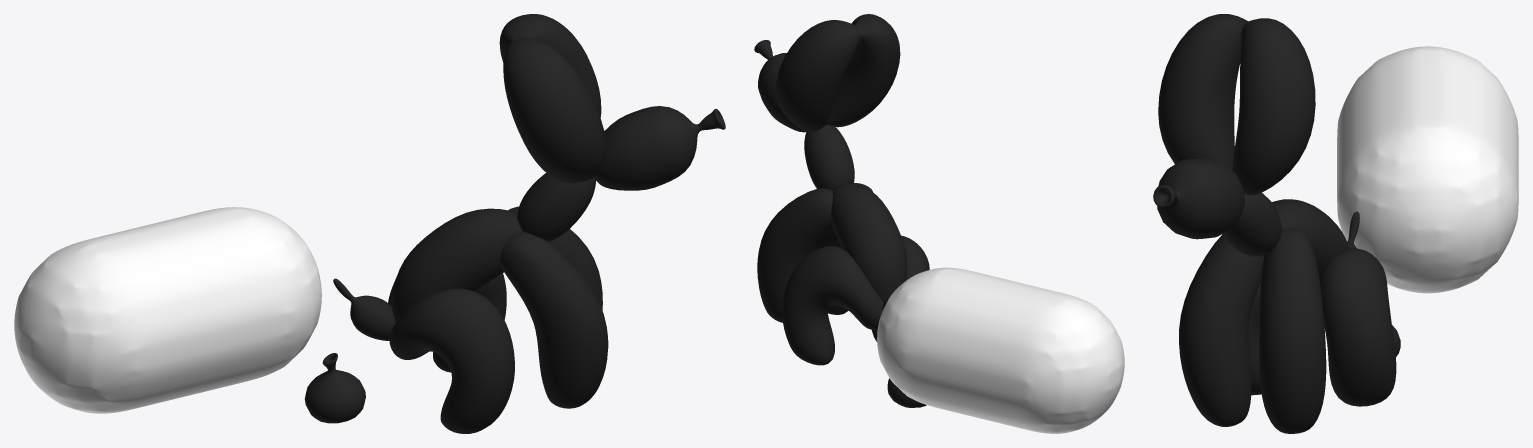
Rendered from blln2.glb.
3 renders of one model, left to right at view 1: azimuth 30°, elevation 25°; view 2: azimuth 150°, elevation 25°; view 3: azimuth 270°, elevation 25°, orthographic. The views are drawn at different scales.
Parts seen in each view (by area): view 1: Body, Mball.003; view 2: Body, Mball.003; view 3: Body, Mball.003.
Part boxes in pixels (x1,y1,x2,y2): Body: (304,14,725,433); Mball.003: (14,207,321,413); Body: (754,14,929,407); Mball.003: (877,267,1124,433); Body: (1153,14,1400,433); Mball.003: (1337,46,1518,293).
Bounding box in the file's own units: 0.5152 × 0.3451 × 0.2754.
2 materials, 1 textured.
